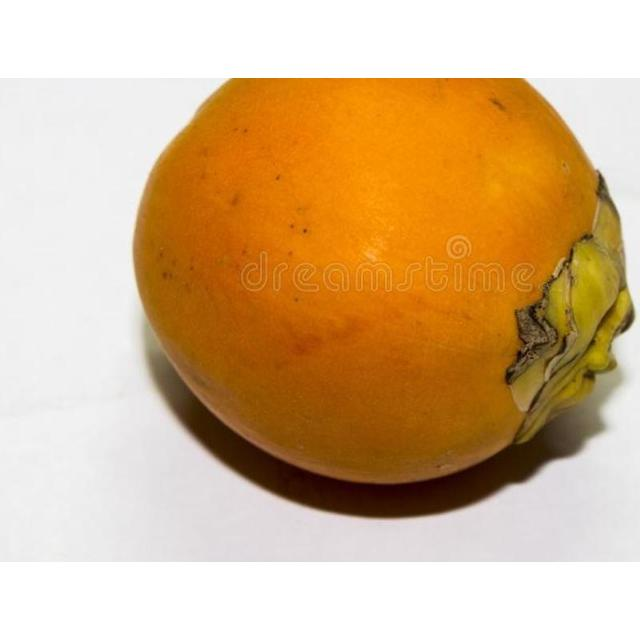good: (131, 78, 634, 488)
